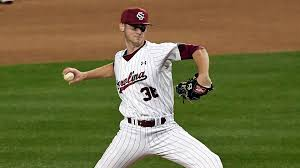baseball: (62, 68, 77, 84)
baseball player: (62, 7, 229, 168)
